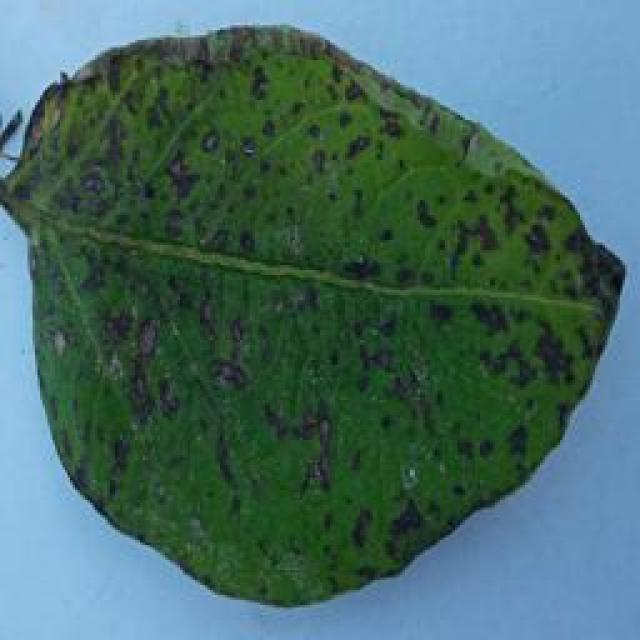Potato_Early_Blight: (14, 21, 623, 614)
